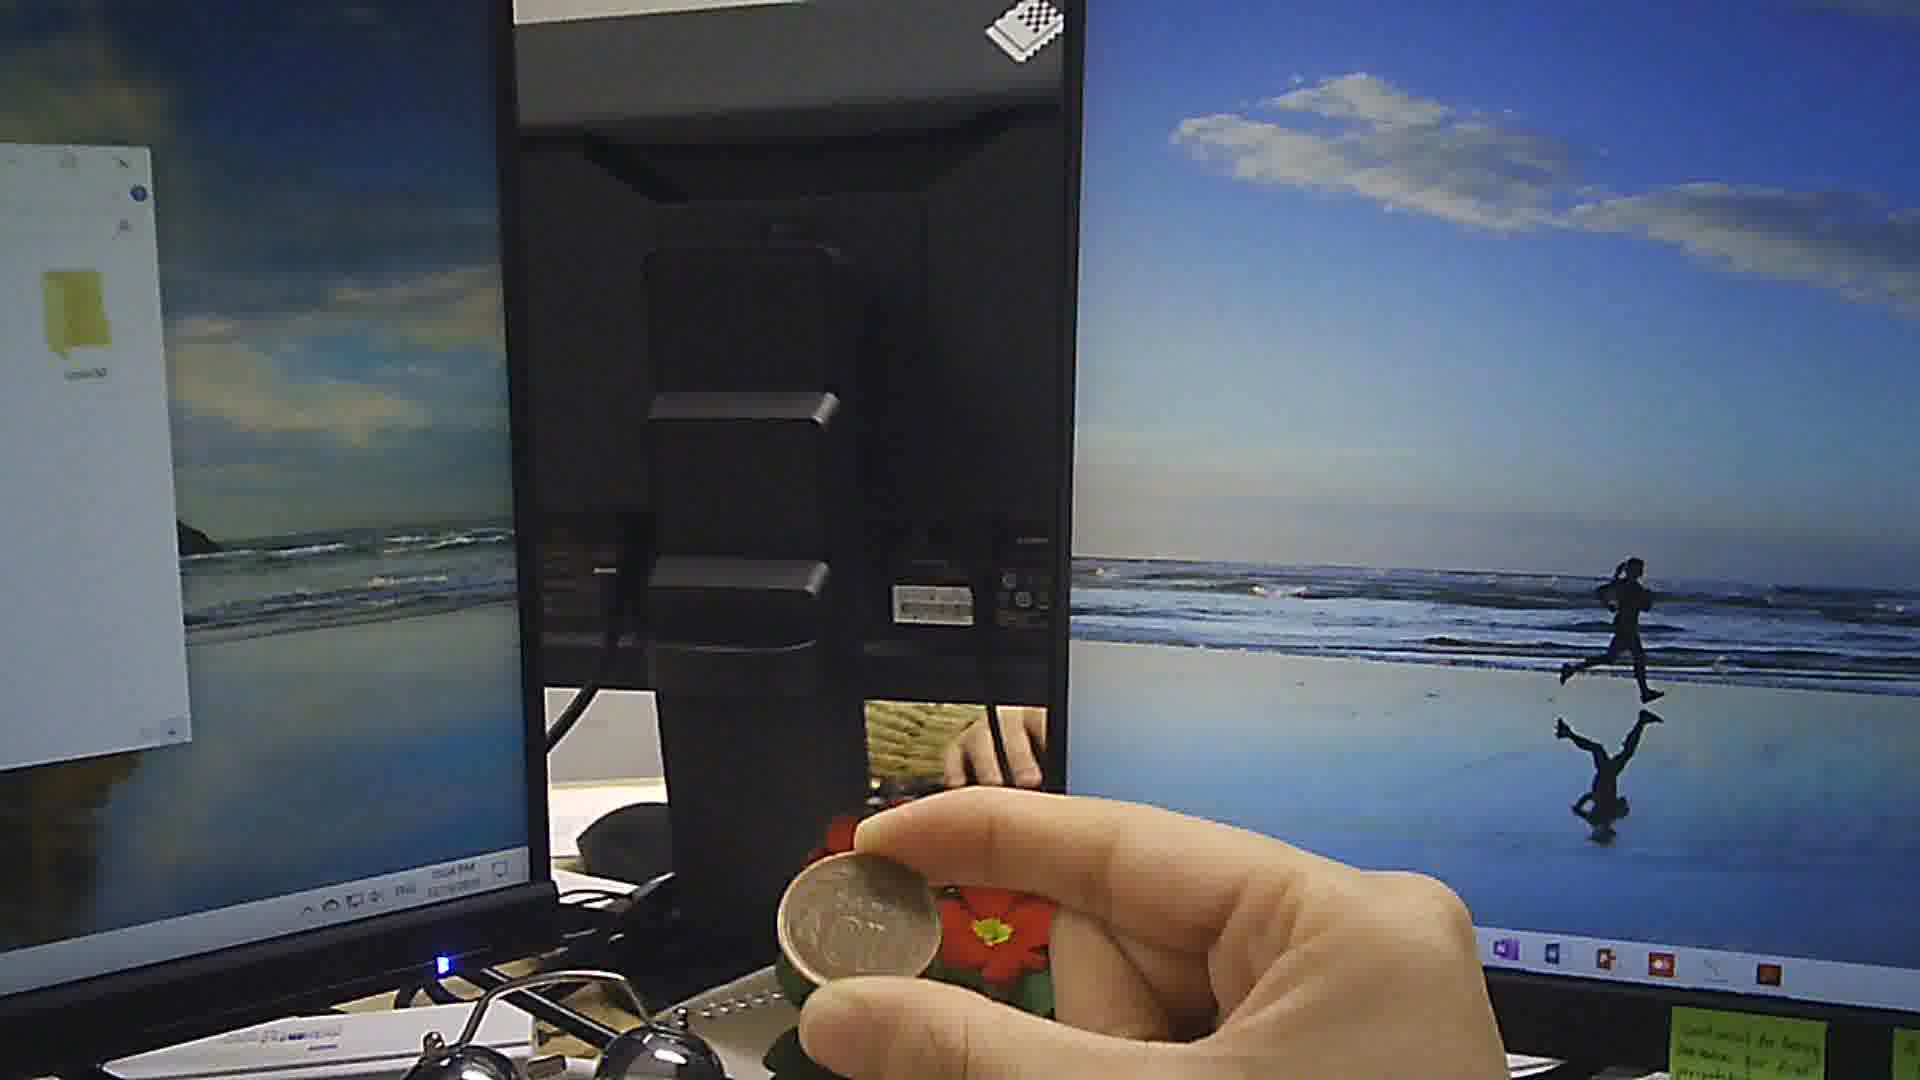10 Yen: (778, 845, 942, 988)
